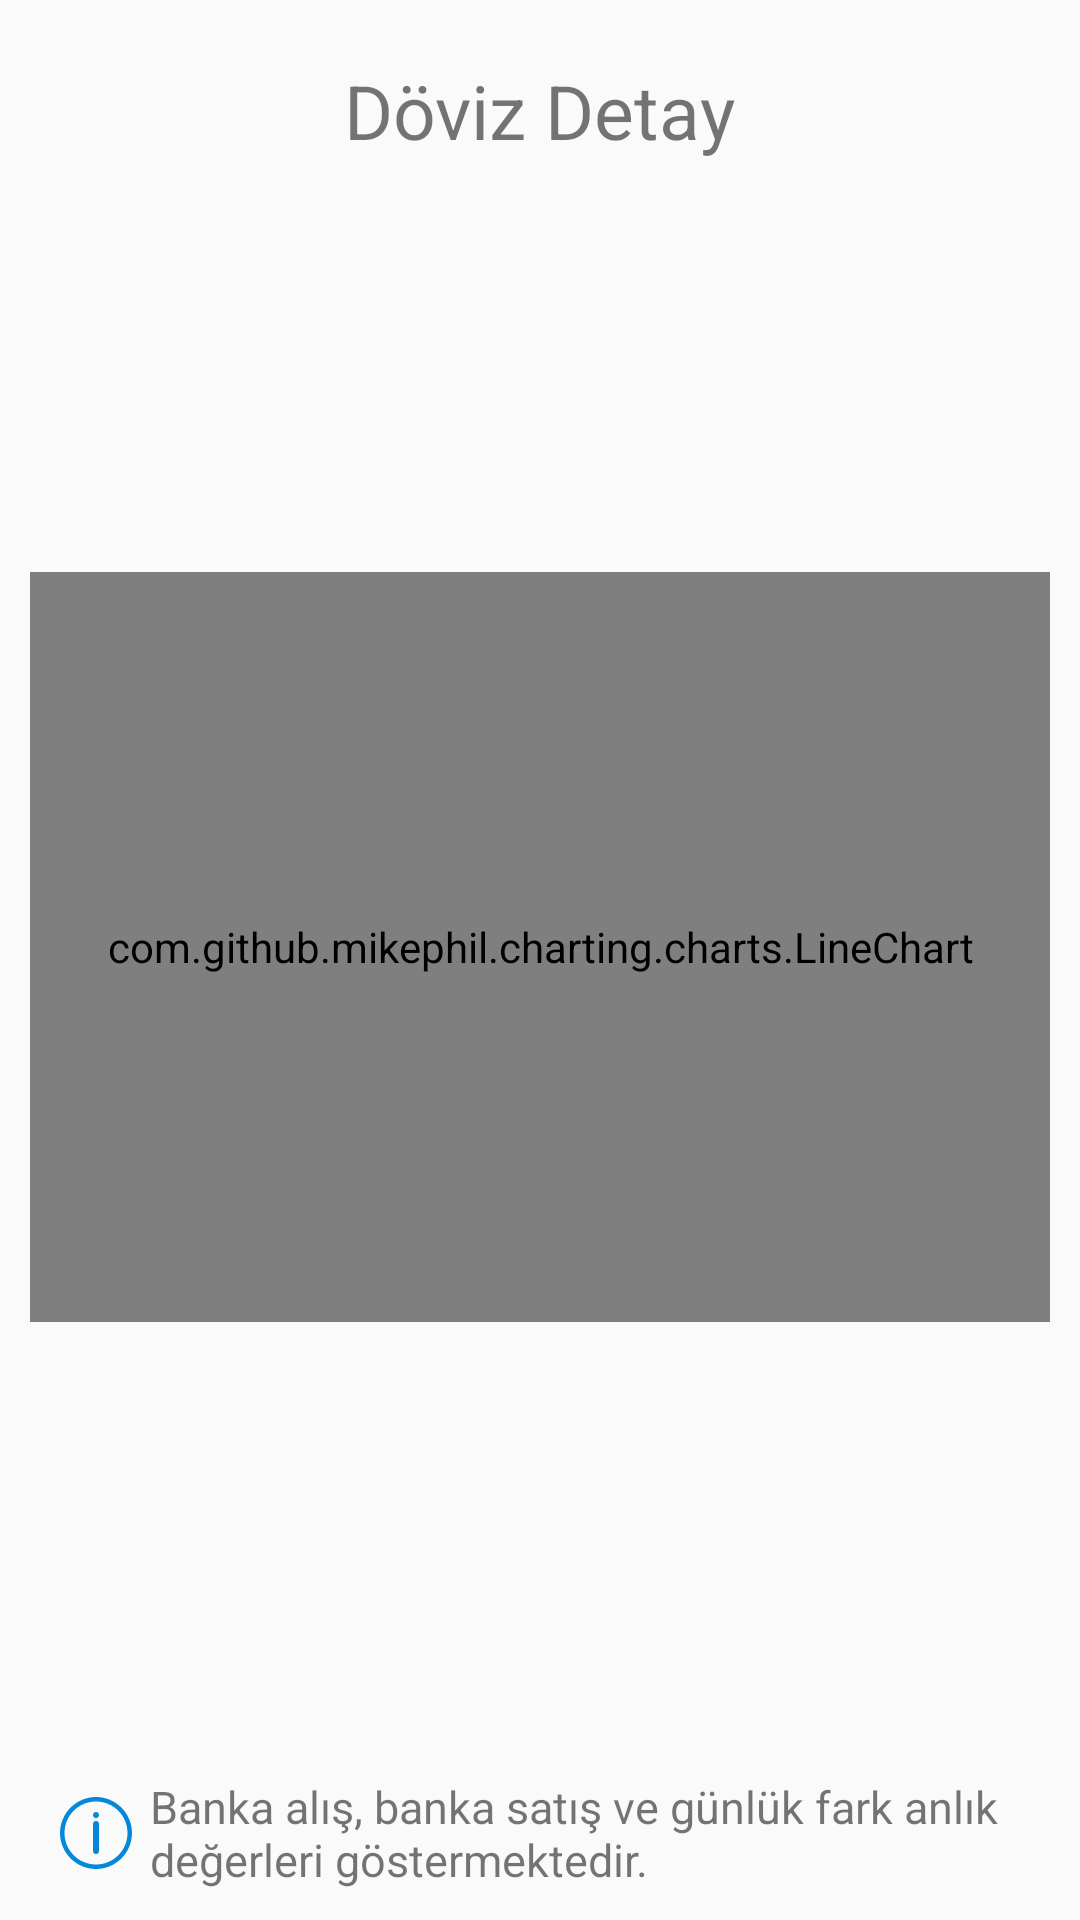

Locate icon controls on the screen. Image size 1080 x 1920, boxes as (x1, y1, x2, y2).
info: (60, 1797, 132, 1869)
